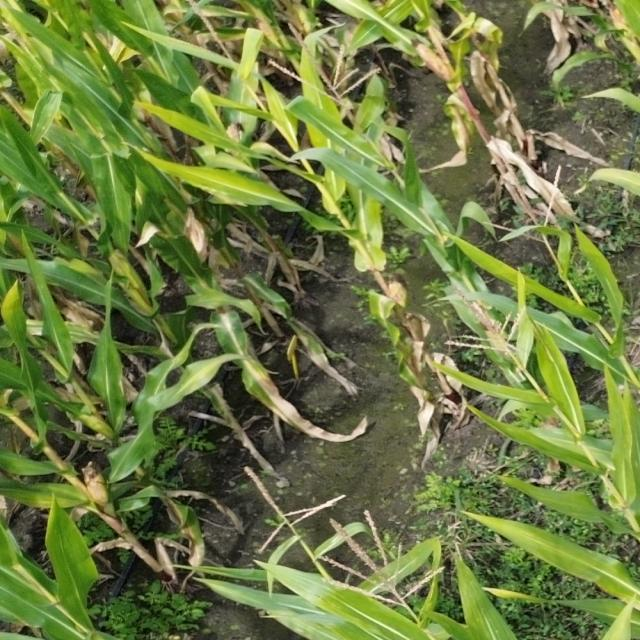northern-leaf-blight: (205, 288, 299, 411)
